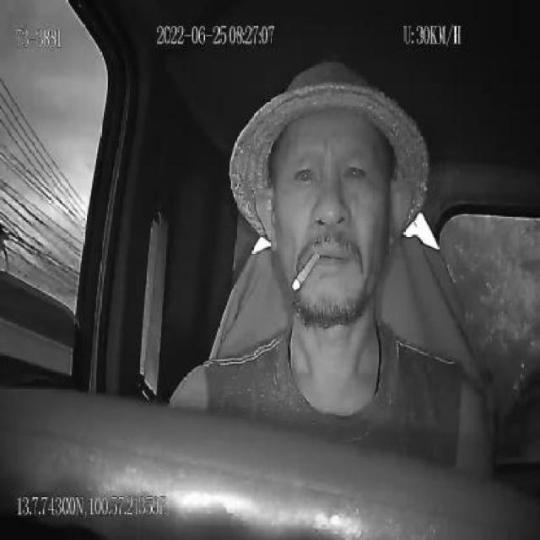smoking: (292, 250, 322, 294)
